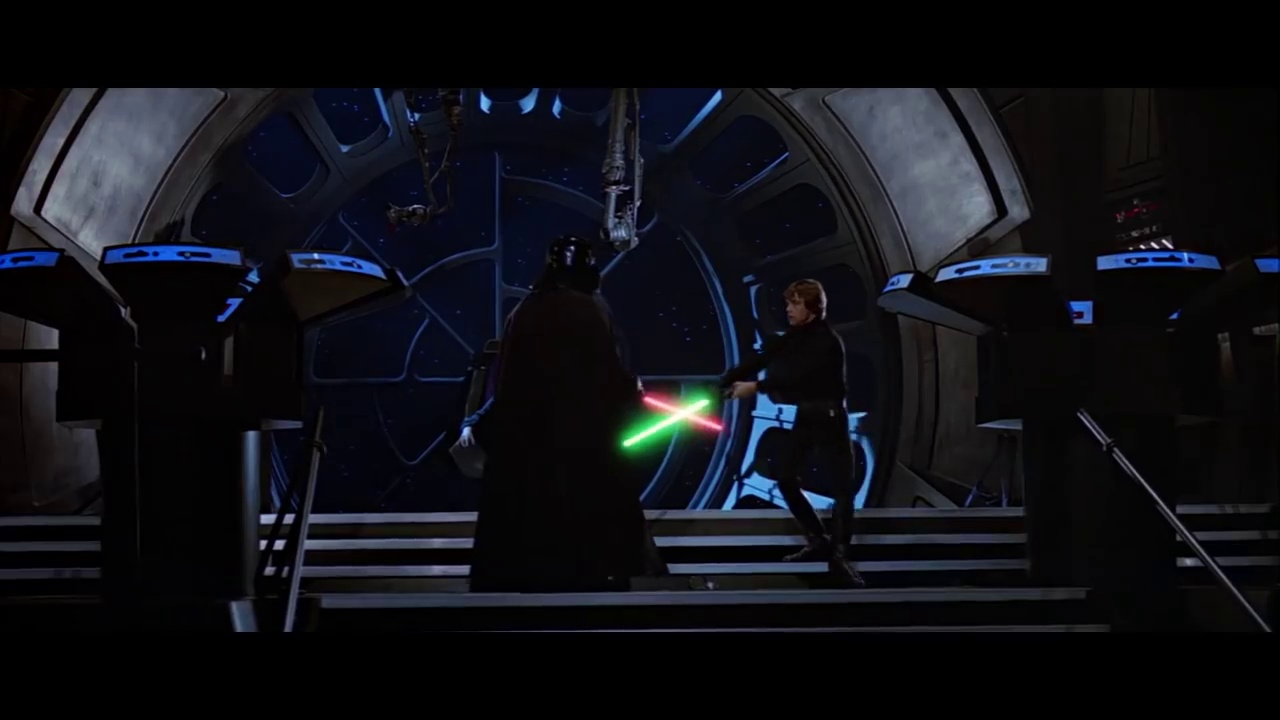lightsaber: (616, 377, 743, 458)
